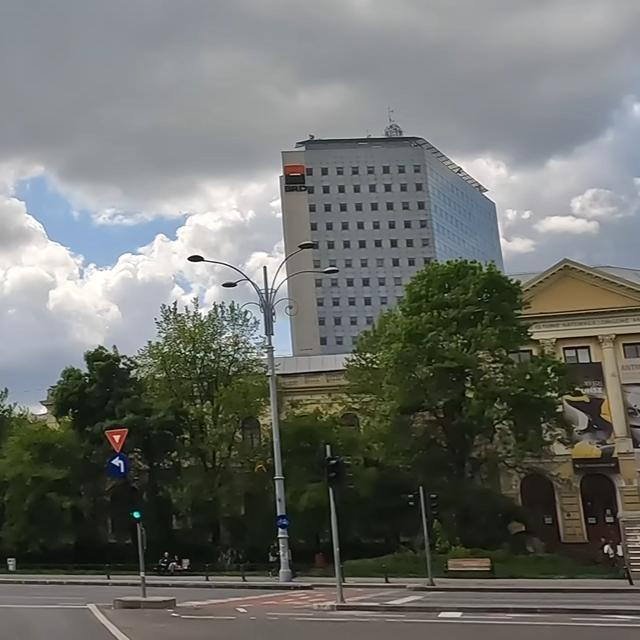prio_give_way: (103, 426, 130, 452)
